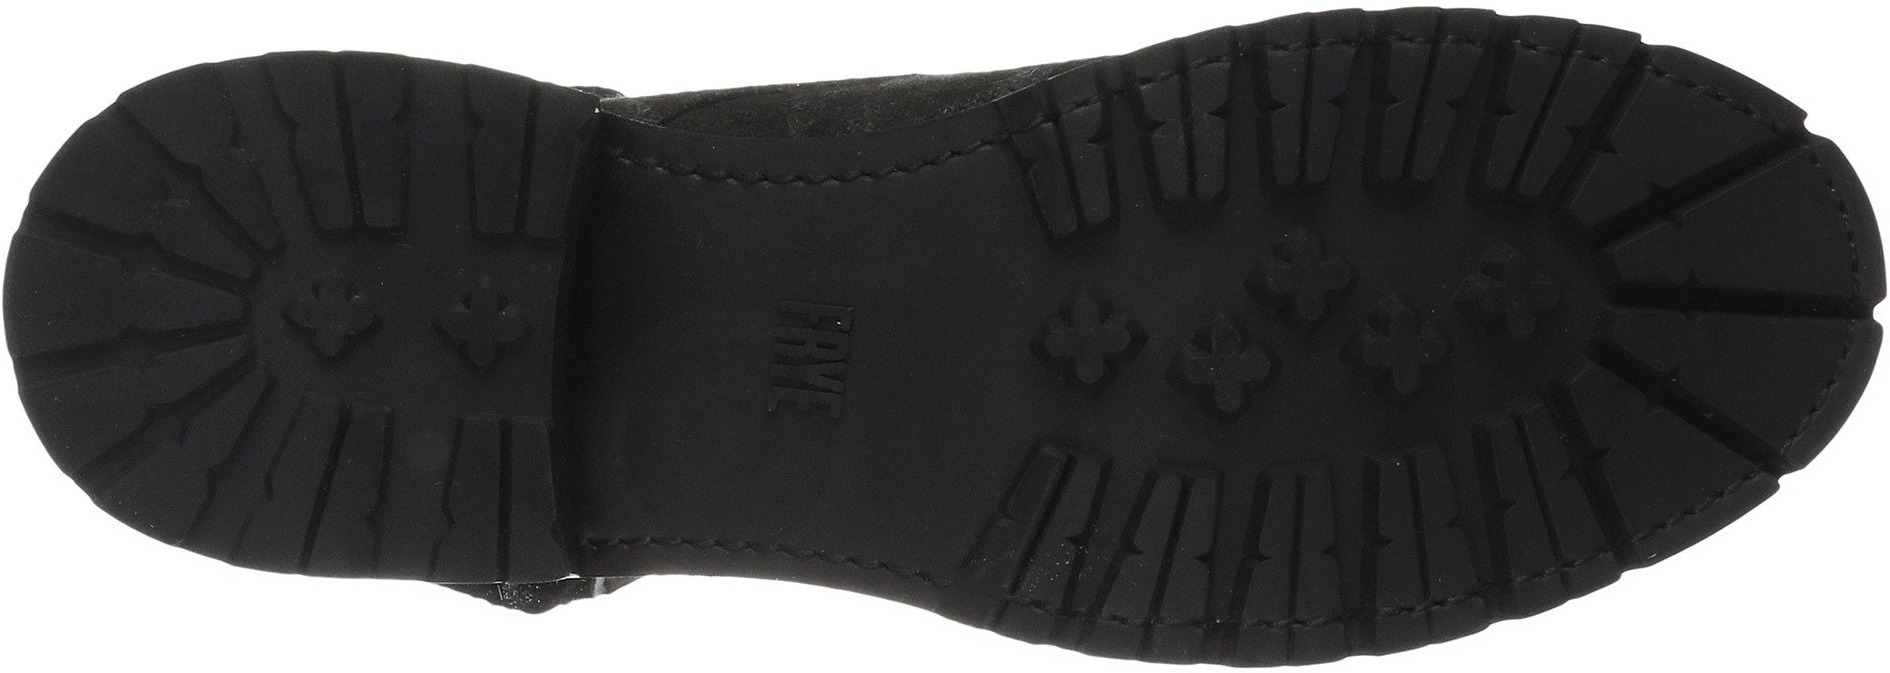bowtie: (1446, 396, 1647, 627), (1031, 449, 1248, 650), (245, 27, 438, 251), (1360, 7, 1560, 210), (61, 220, 257, 419)
exclude: (548, 25, 1014, 630), (413, 570, 671, 652)
star: (1178, 226, 1399, 449), (262, 246, 404, 410), (1408, 226, 1567, 371), (1014, 270, 1173, 415)
text: (720, 291, 877, 438)
